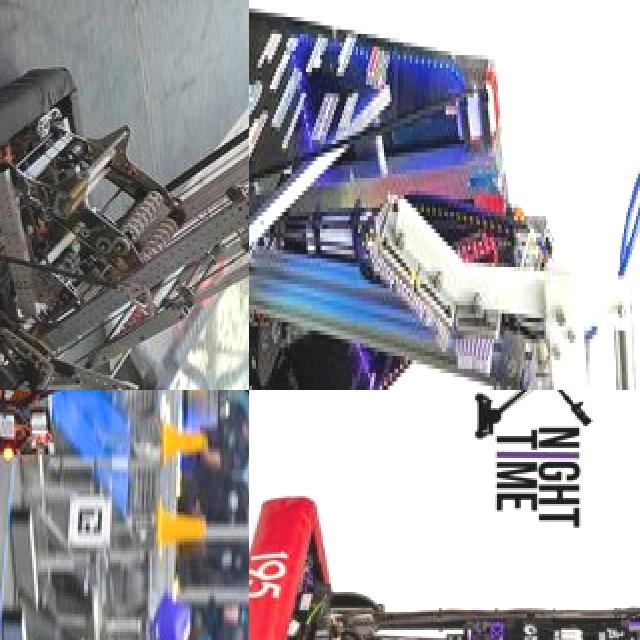FRC-Robots: (249, 0, 640, 390), (0, 34, 249, 390), (249, 451, 640, 640), (0, 390, 249, 563)
